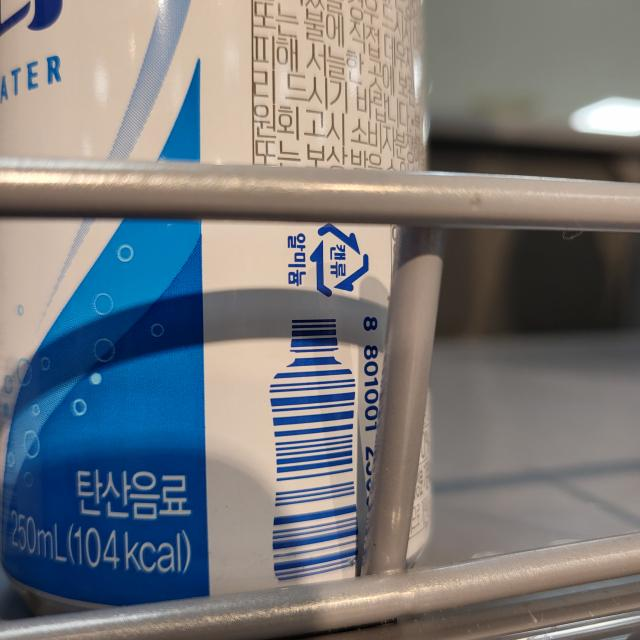Can: (308, 221, 374, 298)
